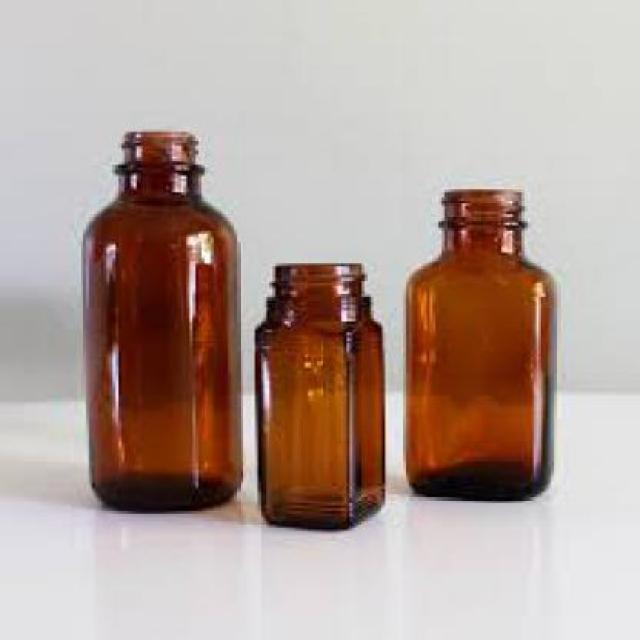kaca: (80, 129, 243, 511), (406, 187, 548, 498), (252, 263, 385, 528)
